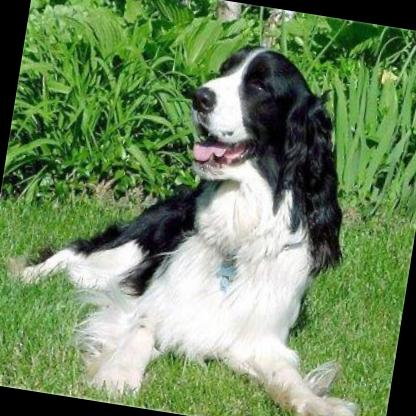English_springer: (2, 11, 409, 416)
